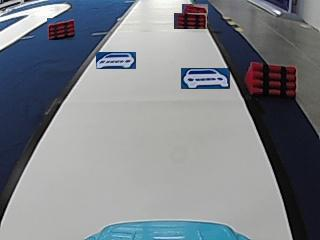bomb: (244, 62, 297, 94)
